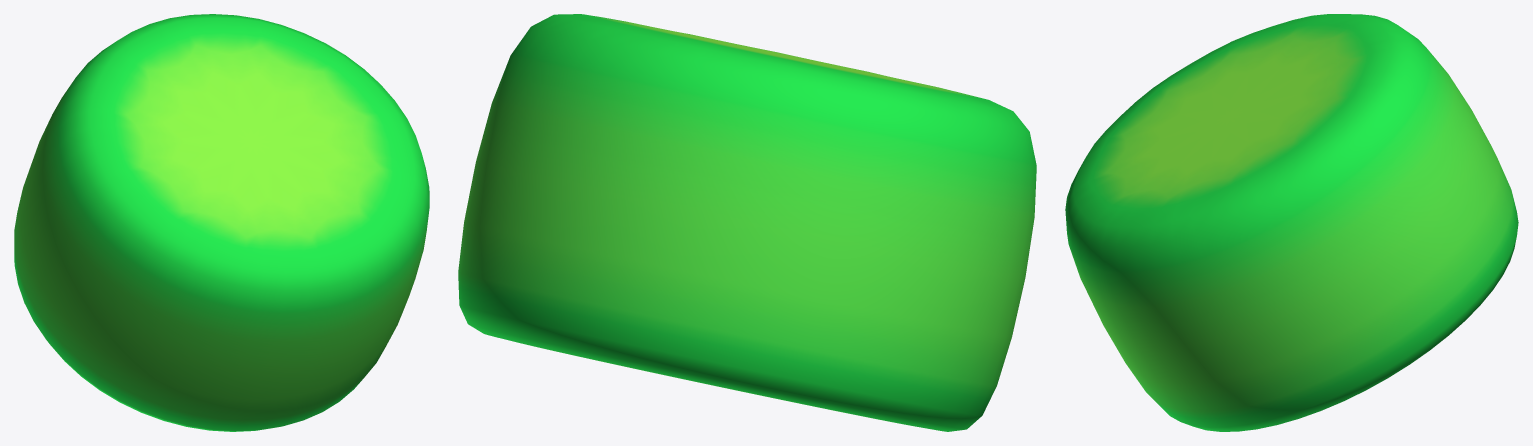
3 renders of one model, left to right at view 1: azimuth 30°, elevation 25°; view 2: azimuth 150°, elevation 25°; view 3: azimuth 270°, elevation 25°, orthographic. The views are drawn at different scales.
Parts seen in each view (by area): view 1: Cylinder.431; view 2: Cylinder.431; view 3: Cylinder.431.
Boxes of the visible parts, x1=… form: Cylinder.431: x1=14, y1=14, x2=429, y2=431; Cylinder.431: x1=458, y1=14, x2=1036, y2=431; Cylinder.431: x1=1065, y1=14, x2=1518, y2=431.
Size of the model in its own units: 5.6 by 5.06 by 5.94.
Materials: 1 (1 with a texture image).
